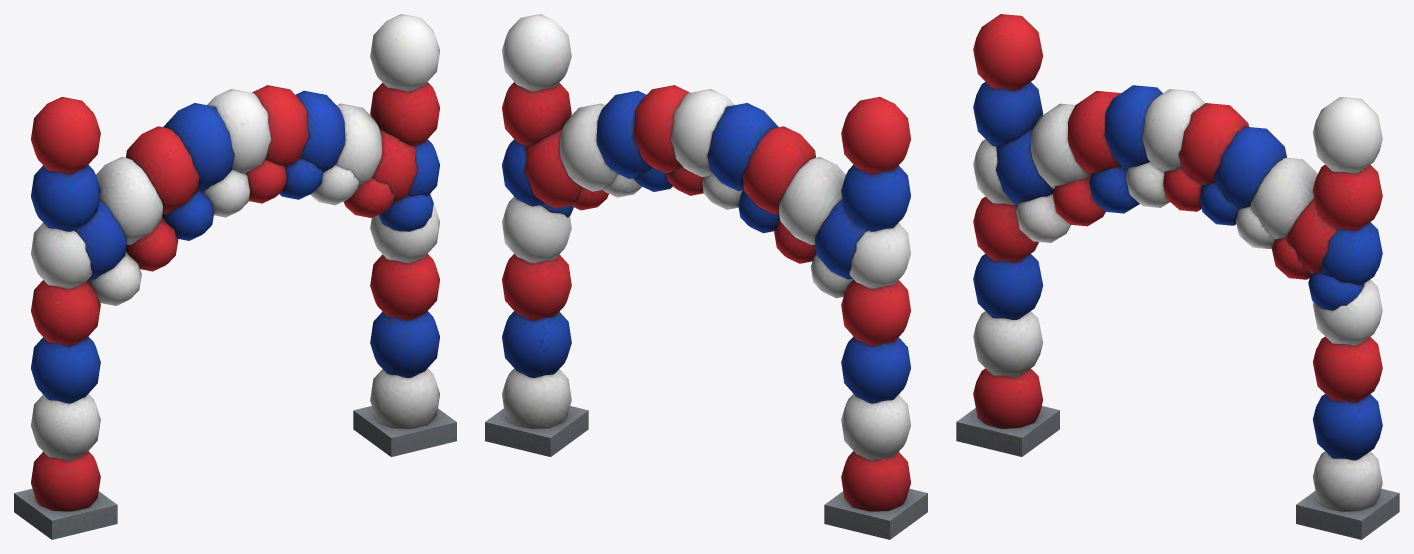
The model's file is globos.glb.
3 renders of one model, left to right at view 1: azimuth 30°, elevation 25°; view 2: azimuth 150°, elevation 25°; view 3: azimuth 330°, elevation 25°, orthographic.
Parts seen in each view (by area): view 1: globos; view 2: globos; view 3: globos.
Part boxes in pixels (x1,y1,x2,y2): globos: (14,14,456,539); globos: (485,14,927,539); globos: (956,14,1399,539).
Size of the model in its own units: 2.22 by 2.2 by 0.38.
1 material, 1 textured.
